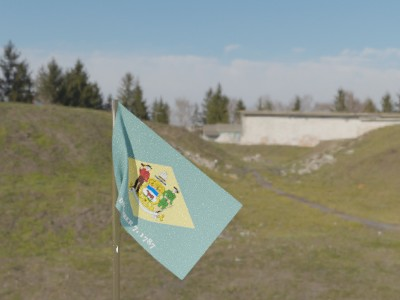Delaware flag: (110, 99, 242, 279)
